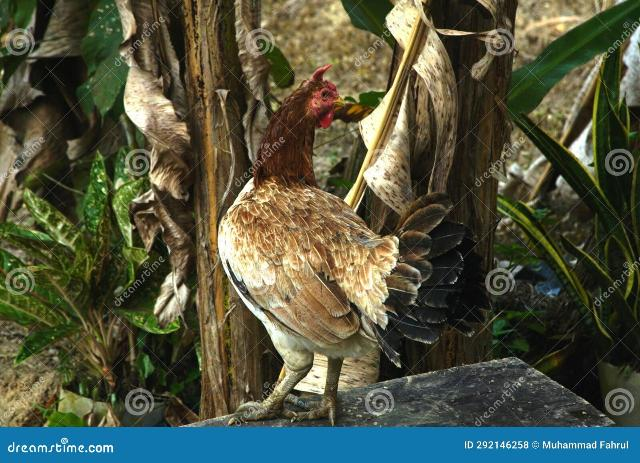Chicken: (218, 61, 469, 426)
